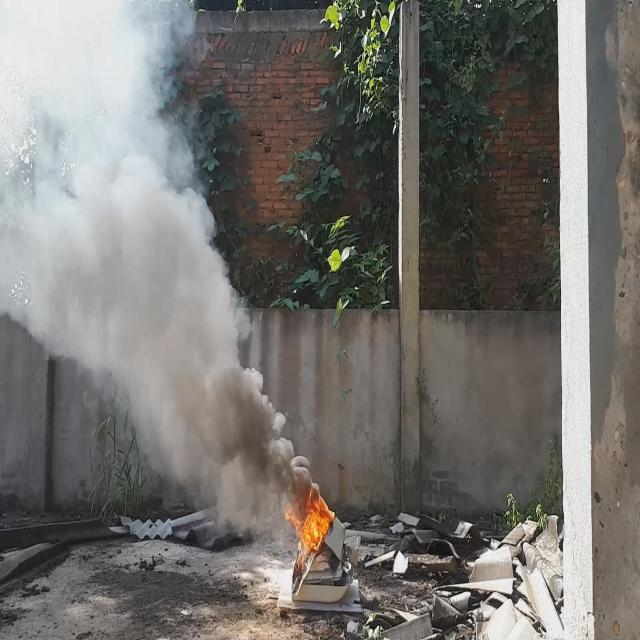Fire: (280, 464, 338, 557)
Smoke: (0, 0, 322, 543)
